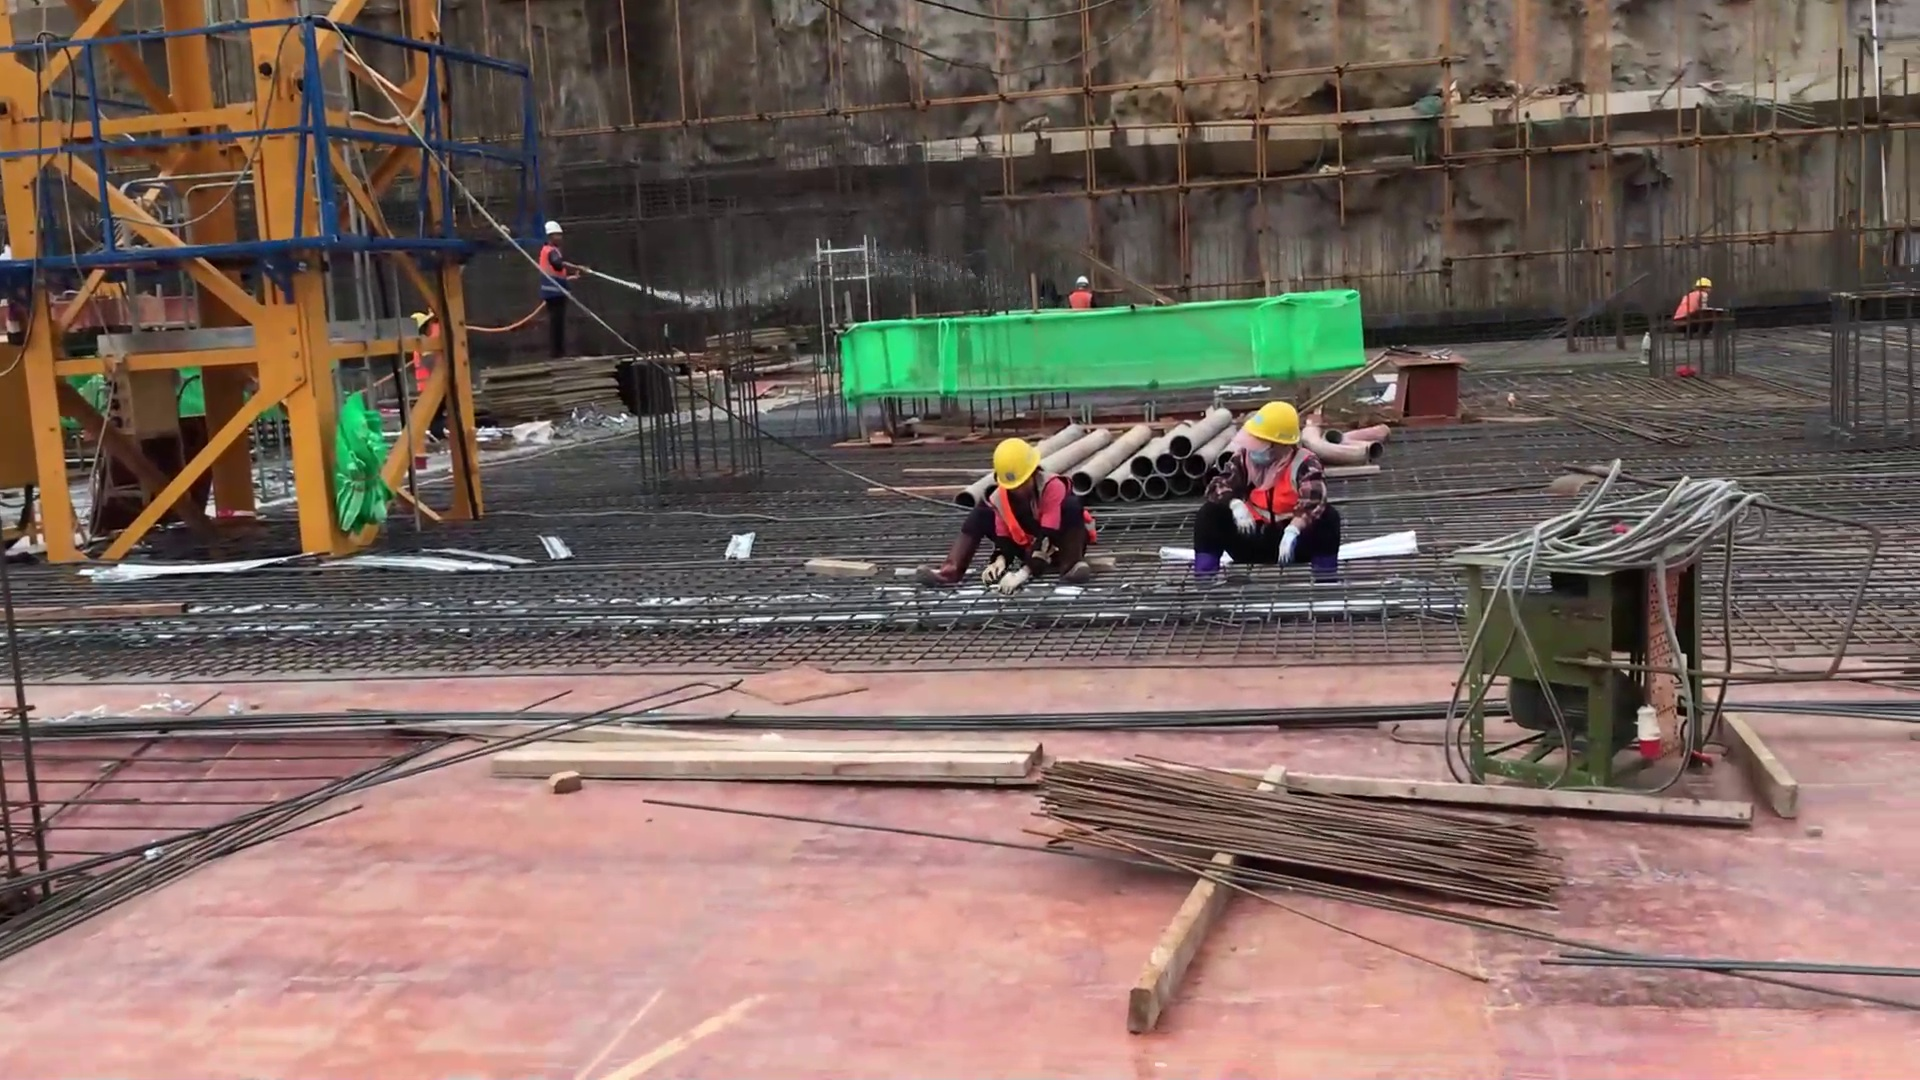helmet: (1230, 398, 1311, 455), (987, 437, 1044, 498), (545, 219, 565, 240), (1689, 273, 1712, 292), (1074, 276, 1089, 288)
person: (1183, 393, 1357, 609), (923, 433, 1106, 601), (537, 215, 583, 360), (1670, 272, 1729, 344), (1067, 275, 1100, 323)
vest: (984, 478, 1102, 561), (1228, 454, 1312, 533), (534, 244, 579, 304), (1673, 290, 1717, 323), (1070, 287, 1095, 311)
